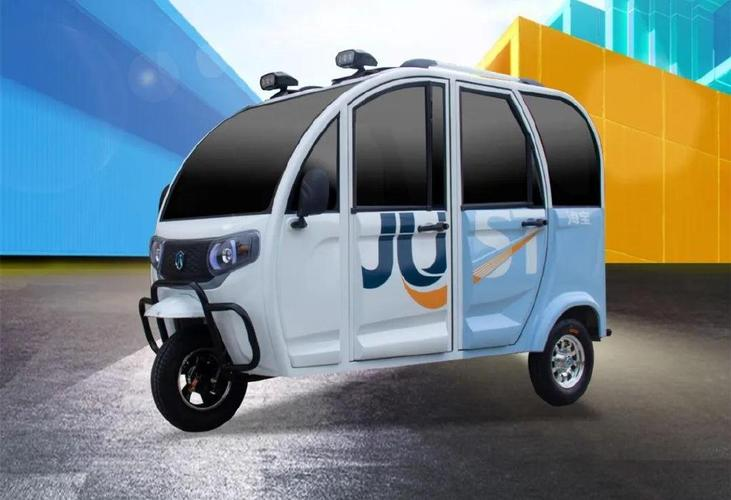empty: (128, 66, 662, 433)
